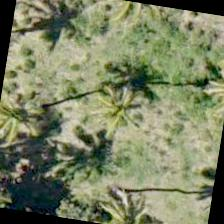Kelapa_Sawit: (76, 63, 180, 166), (0, 78, 69, 178), (93, 166, 193, 223)
